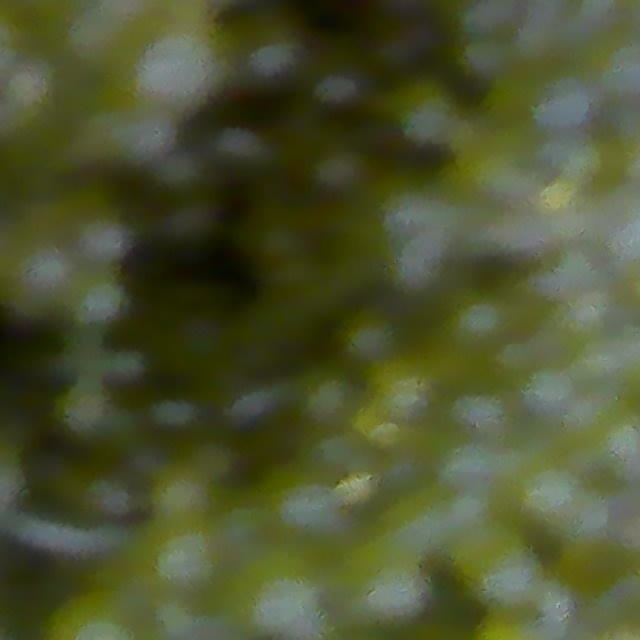SeaGrape: (223, 537, 333, 640), (130, 15, 229, 114), (332, 538, 433, 635), (456, 522, 545, 612), (147, 519, 227, 598), (0, 240, 78, 321), (389, 79, 460, 150), (587, 30, 640, 106), (66, 268, 125, 326), (73, 212, 131, 268)
